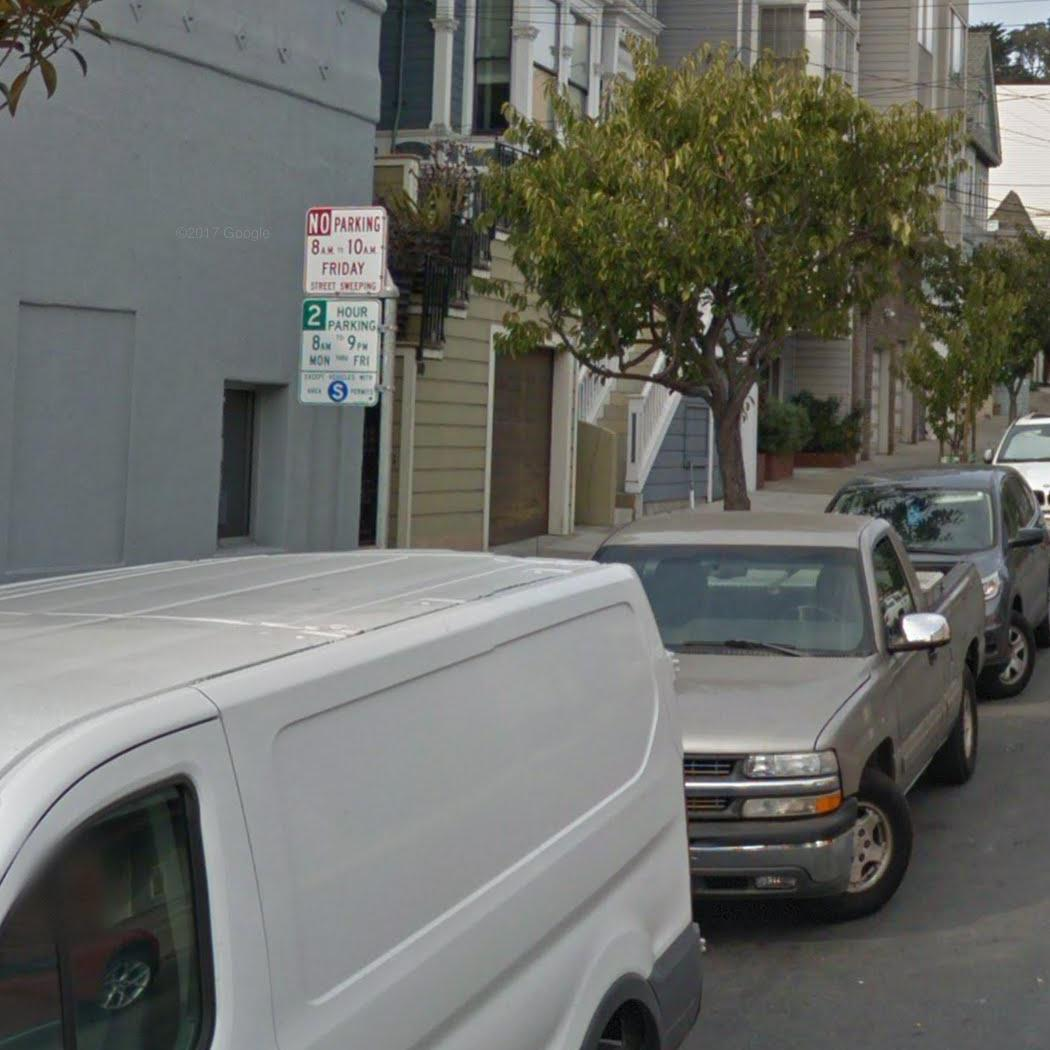2 Hour Parking: (294, 297, 386, 411)
No Parking: (298, 200, 392, 297)
